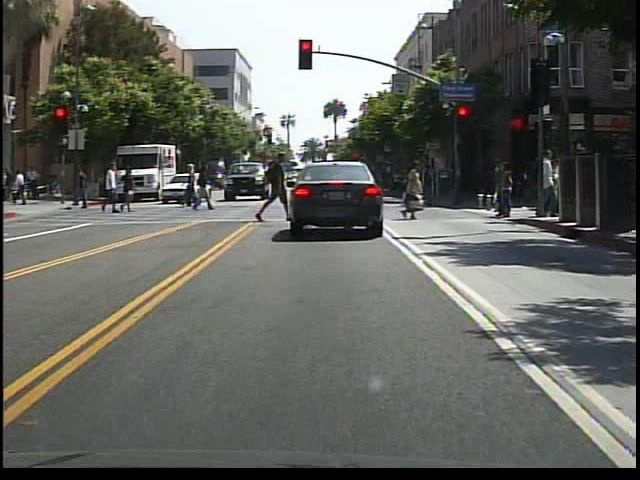person: (261, 147, 294, 225), (527, 149, 558, 223), (398, 159, 430, 223), (192, 163, 217, 215), (103, 162, 126, 218), (77, 164, 95, 211), (185, 164, 203, 210), (123, 167, 138, 214)
